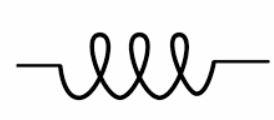inductor: (49, 23, 226, 106)
